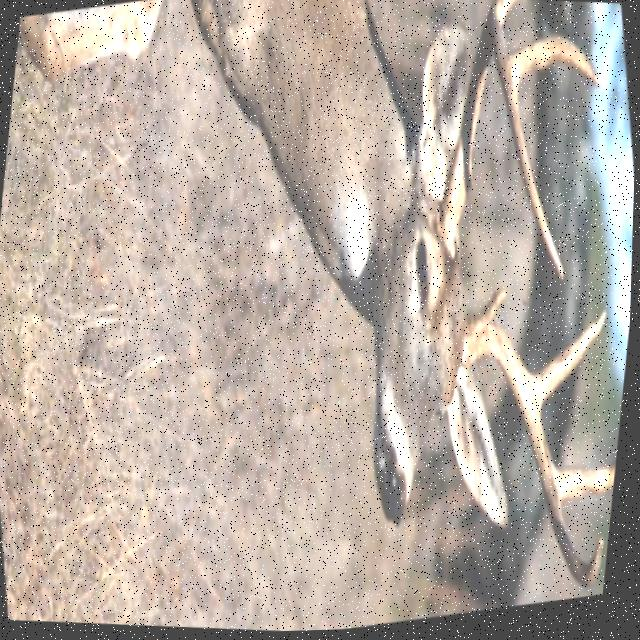L-F: (440, 15, 566, 284)
L-G2: (488, 0, 522, 27)
L-G3: (507, 38, 601, 98)
R-F: (465, 321, 608, 591)
R-G1: (481, 290, 508, 326)
R-G2: (531, 312, 609, 419)
R-G3: (555, 467, 618, 505)
